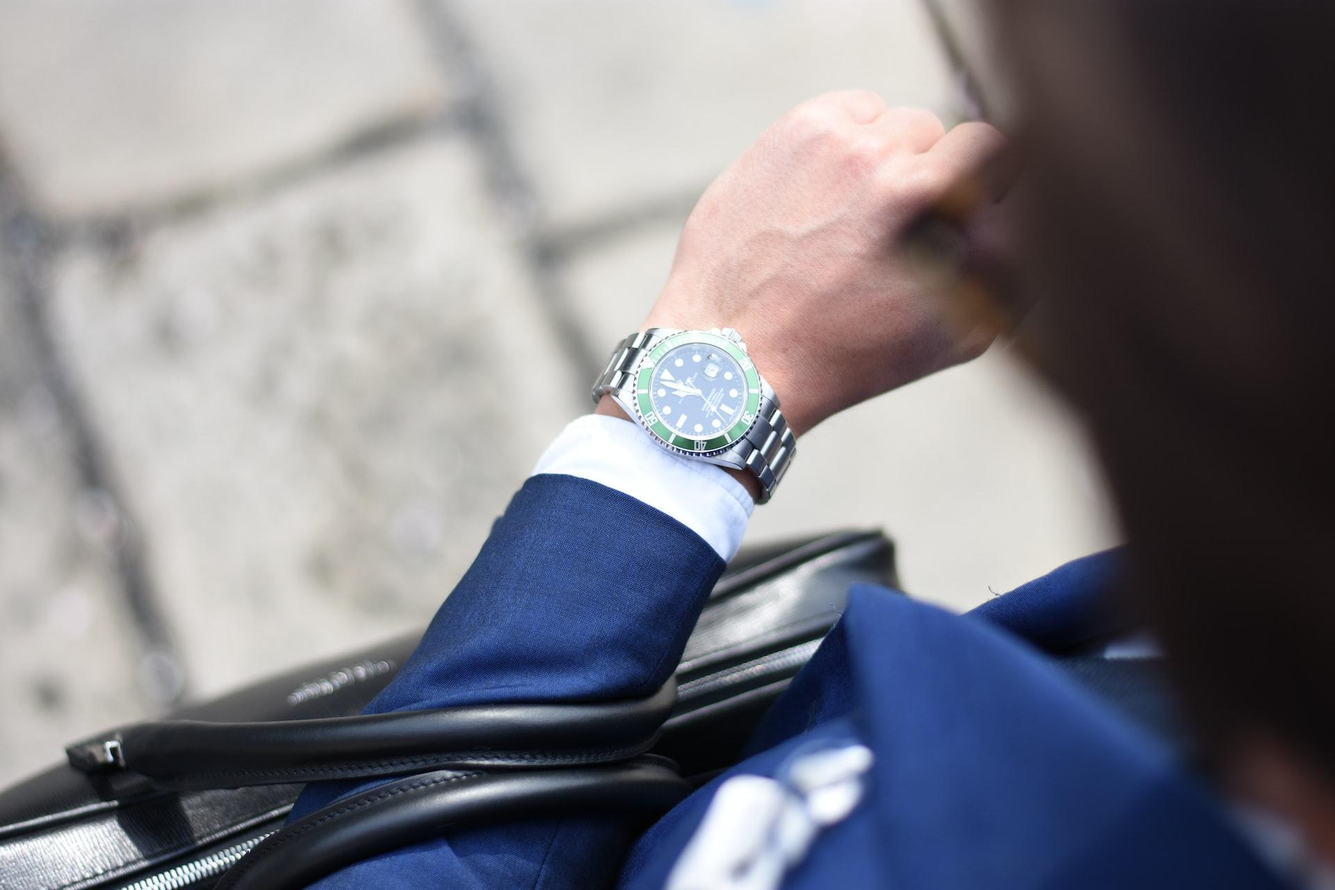watch: (589, 314, 807, 510)
